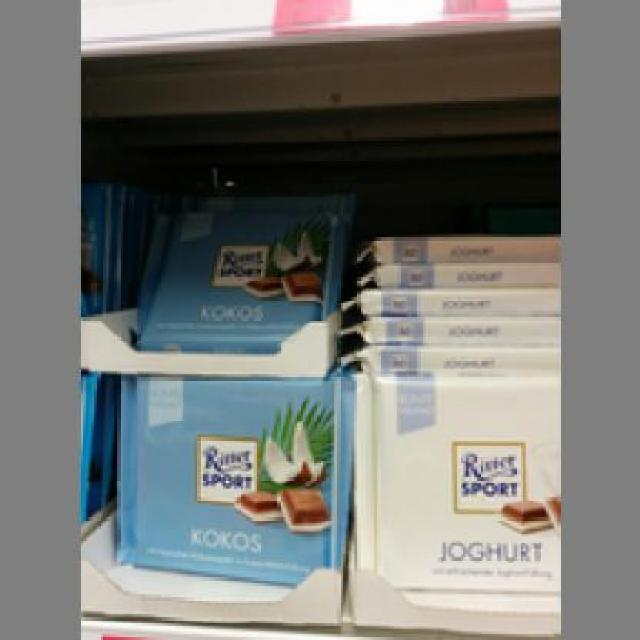Chocolate: (108, 370, 344, 586), (352, 372, 554, 598), (132, 199, 332, 355)
